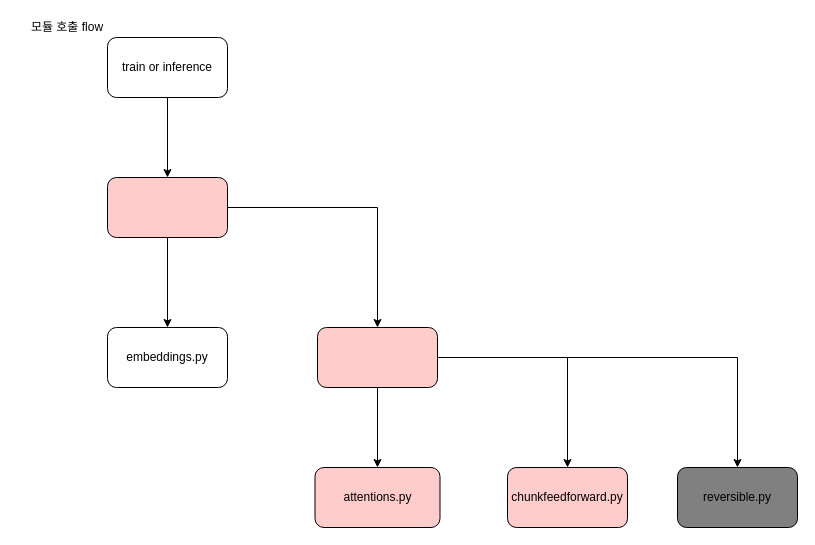
Some shapes in this 815 by 545 pixel diagram are drawn without their labels. Here are the shapes that lost their labels. From the top down, the centre of each, then its label:
point (167, 207): reformer.py
point (377, 357): decoder.py
